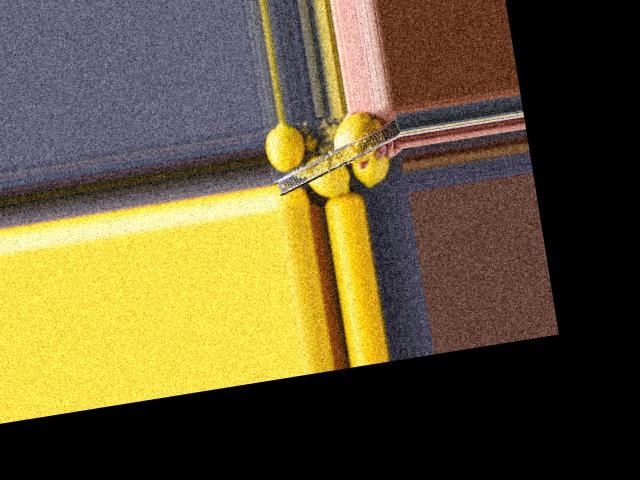lemon: (263, 119, 315, 173)
